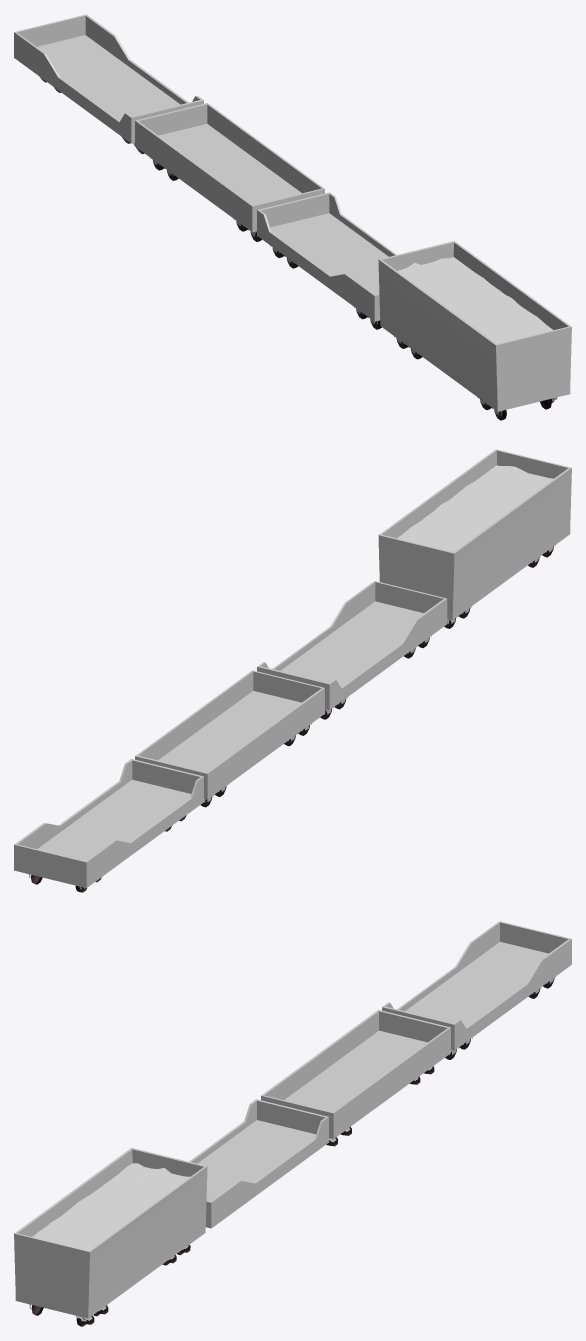
The model's file is Train.fbx.
3 renders of one model, top to bottom at view 1: azimuth 30°, elevation 25°; view 2: azimuth 150°, elevation 25°; view 3: azimuth 330°, elevation 25°, orthographic.
Parts seen in each view (by area): view 1: Cube.003, Cube, Cube.002, Cube.001, Plane.011; view 2: Cube.003, Cube.002, Cube, Cube.001, Plane.011; view 3: Cube.003, Cube, Cube.002, Cube.001, Plane.011.
Part boxes in pixels (left/top/right/bottom): Cube.003: left=378, top=241, right=571, bottom=411; Cube: left=135, top=103, right=324, bottom=232; Cube.002: left=14, top=14, right=203, bottom=143; Cube.001: left=257, top=192, right=396, bottom=321; Plane.011: left=397, top=257, right=553, bottom=343; Cube.003: left=378, top=449, right=571, bottom=619; Cube.002: left=14, top=759, right=203, bottom=887; Cube: left=135, top=670, right=324, bottom=799; Cube.001: left=257, top=581, right=447, bottom=710; Plane.011: left=397, top=465, right=553, bottom=551; Cube.003: left=14, top=1147, right=207, bottom=1318; Cube: left=261, top=1009, right=450, bottom=1138; Cube.002: left=382, top=921, right=571, bottom=1050; Cube.001: left=189, top=1099, right=328, bottom=1228; Plane.011: left=32, top=1163, right=190, bottom=1250.
Bounding box in the file's own units: 1.71 × 18.9 × 1.83.
